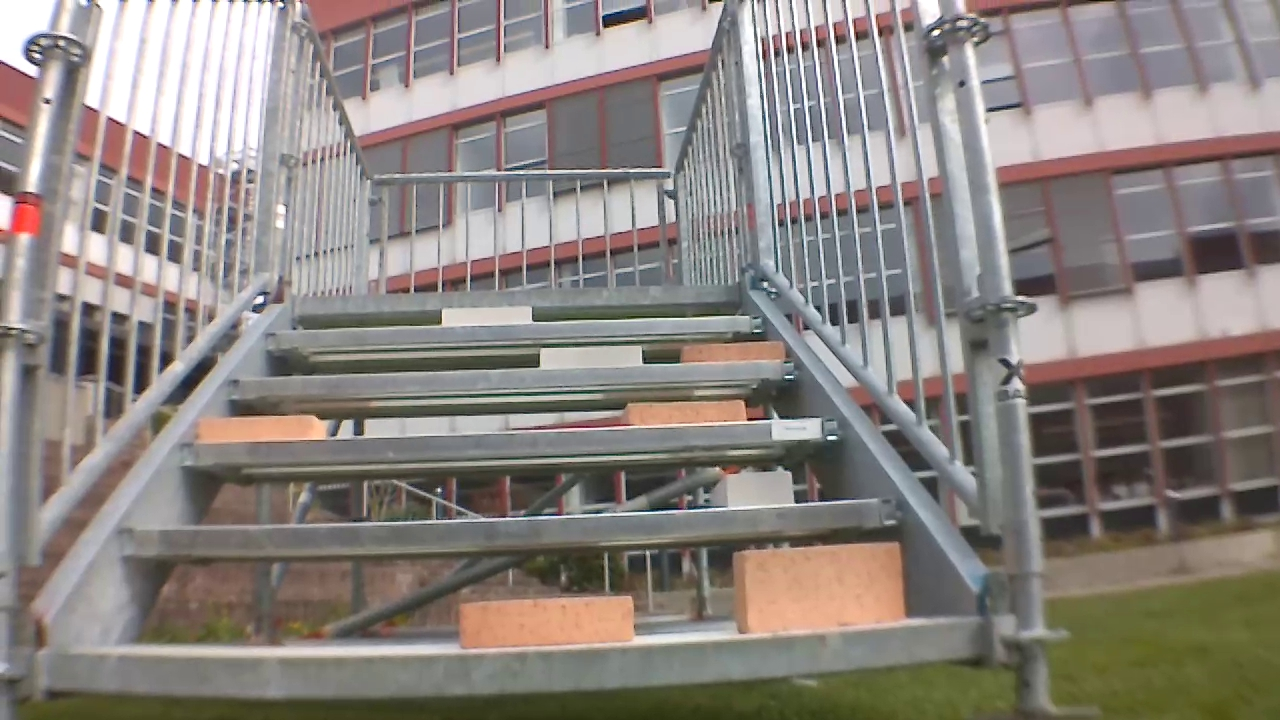brick: (731, 543, 901, 631), (458, 593, 637, 645), (625, 399, 747, 428), (201, 416, 332, 443), (539, 342, 646, 371), (718, 470, 793, 511), (684, 337, 790, 362), (438, 301, 531, 326)
edge: (38, 610, 1004, 696), (118, 496, 901, 557), (178, 416, 846, 471), (260, 306, 774, 355), (221, 358, 806, 401), (282, 277, 747, 312)
stairs: (16, 0, 1059, 712)
steps: (14, 274, 1016, 701)
